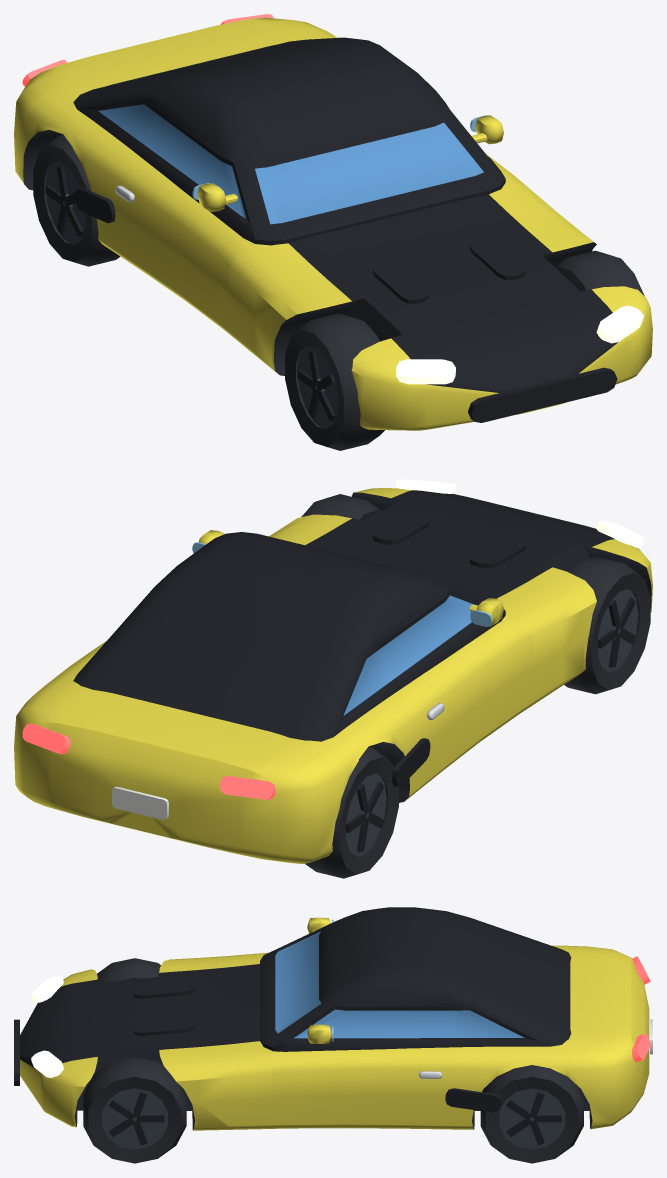
File: cupe_verde_limao.glb
The picture shows the model from 3 angles, top to bottom: view 1: azimuth 30°, elevation 25°; view 2: azimuth 150°, elevation 25°; view 3: azimuth 270°, elevation 25°; orthographic projection. The views are drawn at different scales.
Visible parts, largest first — view 1: cupe_verde_limao, porta_dianteira_esq, roda_dianteira_esq, roda_traseira_esq, roda_dianteira_dir; view 2: cupe_verde_limao, porta_dianteira_esq, roda_dianteira_esq, roda_traseira_esq, roda_dianteira_dir; view 3: cupe_verde_limao, porta_dianteira_dir, roda_dianteira_dir, roda_traseira_dir, roda_dianteira_esq.
Part boxes in pixels (left/top/right/bottom): cupe_verde_limao: left=14, top=14, right=652, bottom=430; porta_dianteira_esq: left=110, top=107, right=257, bottom=330; roda_dianteira_esq: left=285, top=313, right=384, bottom=450; roda_traseira_esq: left=33, top=134, right=120, bottom=266; roda_dianteira_dir: left=555, top=250, right=644, bottom=296; cupe_verde_limao: left=14, top=479, right=652, bottom=863; porta_dianteira_esq: left=377, top=590, right=534, bottom=786; roda_dianteira_esq: left=564, top=556, right=650, bottom=694; roda_traseira_esq: left=305, top=746, right=398, bottom=878; roda_dianteira_dir: left=301, top=494, right=380, bottom=520; cupe_verde_limao: left=14, top=907, right=652, bottom=1130; porta_dianteira_dir: left=271, top=1006, right=454, bottom=1125; roda_dianteira_dir: left=83, top=1057, right=186, bottom=1163; roda_traseira_dir: left=480, top=1065, right=583, bottom=1163; roda_dianteira_esq: left=97, top=958, right=160, bottom=983.
Size of the model in its own units: 2 by 1.29 by 4.34.
Materials: 4 (1 with a texture image).
